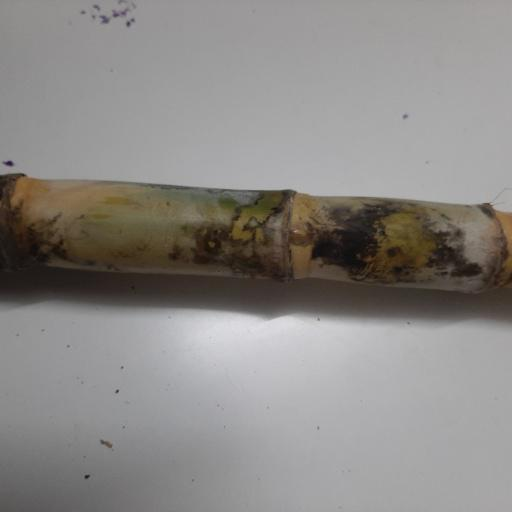Bud: (290, 224, 311, 246)
